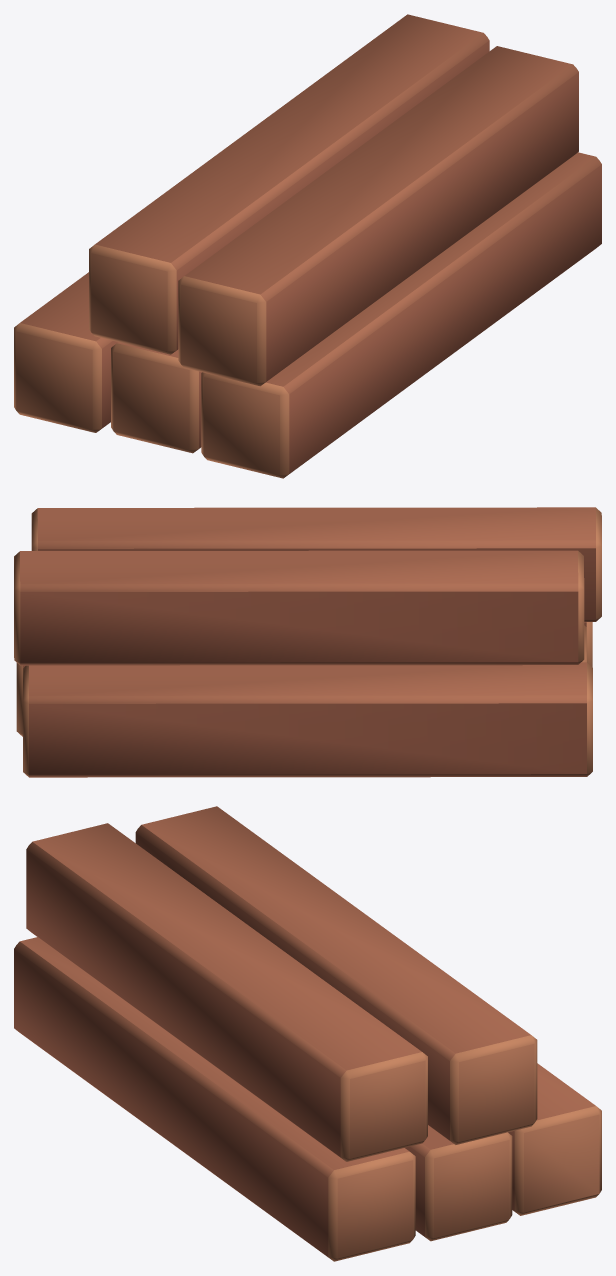
The model's file is resource_lumber.gltf.
3 views of the same model, one above another, from view 1: azimuth 30°, elevation 25°; view 2: azimuth 150°, elevation 25°; view 3: azimuth 270°, elevation 25° (orthographic). The views are drawn at different scales.
Visible parts, largest first — view 1: resource_lumber; view 2: resource_lumber; view 3: resource_lumber.
Part boxes in pixels (x1,y1,x2,y2): resource_lumber: (14, 14, 601, 478); resource_lumber: (14, 507, 601, 777); resource_lumber: (14, 806, 601, 1261).
Size of the model in its own units: 0.7333 by 0.21 by 0.6113.
1 material, 1 textured.
